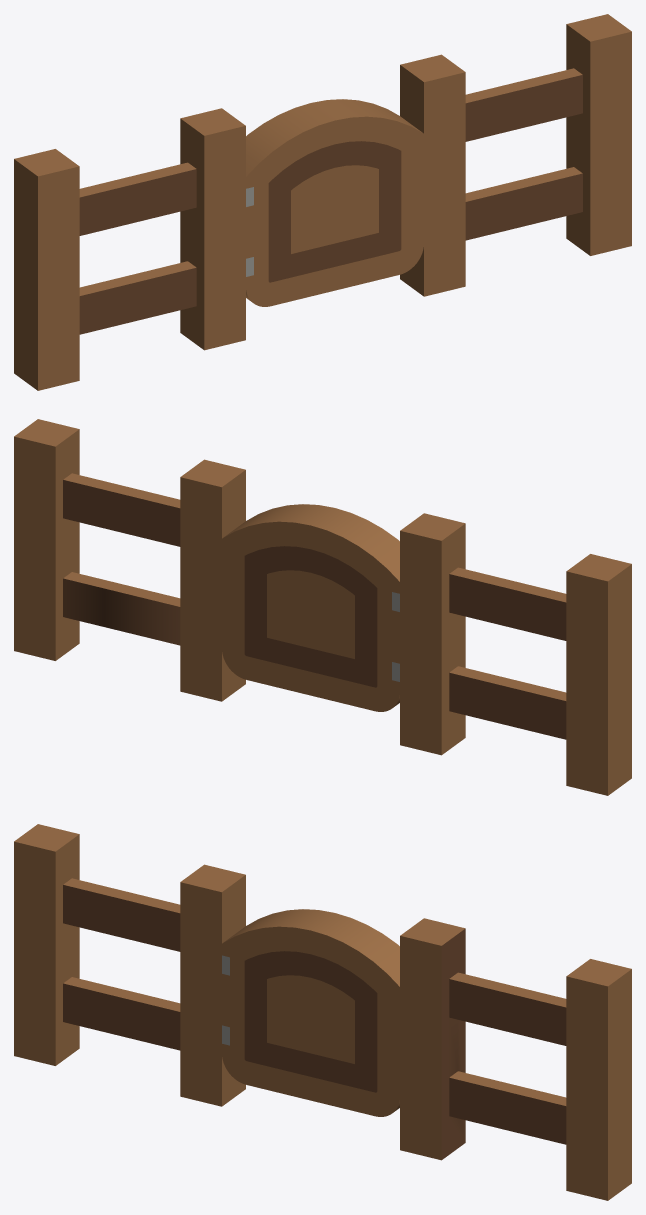
Rendered from fence_gate.glb.
The picture shows the model from 3 angles, top to bottom: view 1: azimuth 30°, elevation 25°; view 2: azimuth 150°, elevation 25°; view 3: azimuth 330°, elevation 25°; orthographic projection.
Visible parts, largest first — view 1: fence_gate, gate; view 2: fence_gate, gate; view 3: fence_gate, gate.
Part boxes in pixels (<box>): fence_gate: <box>14,14,631,390</box>; gate: <box>246,99,423,306</box>; fence_gate: <box>14,419,631,795</box>; gate: <box>222,504,399,711</box>; fence_gate: <box>14,824,631,1200</box>; gate: <box>222,909,399,1116</box>.
Size of the model in its own units: 3 by 1.04 by 0.21.
